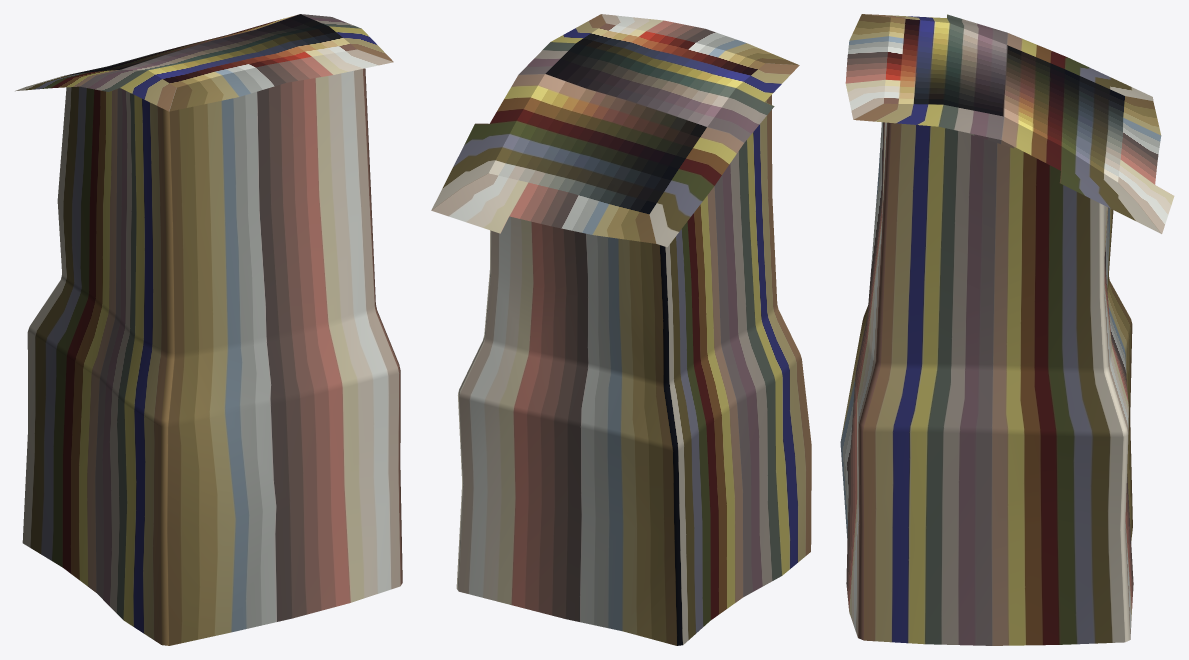
Rendered from MSH_Building_004.glb.
3 renders of one model, left to right at view 1: azimuth 30°, elevation 25°; view 2: azimuth 150°, elevation 25°; view 3: azimuth 270°, elevation 25°, orthographic. The views are drawn at different scales.
Visible parts, largest first — view 1: Base.016; view 2: Base.016; view 3: Base.016.
Part boxes in pixels (box(x1,y1,x2,y2)): Base.016: box(15, 14, 402, 645); Base.016: box(431, 14, 811, 645); Base.016: box(840, 14, 1174, 645).
Bounding box in the file's own units: 5.6 × 10.74 × 6.2.
Materials: 1 (1 with a texture image).
